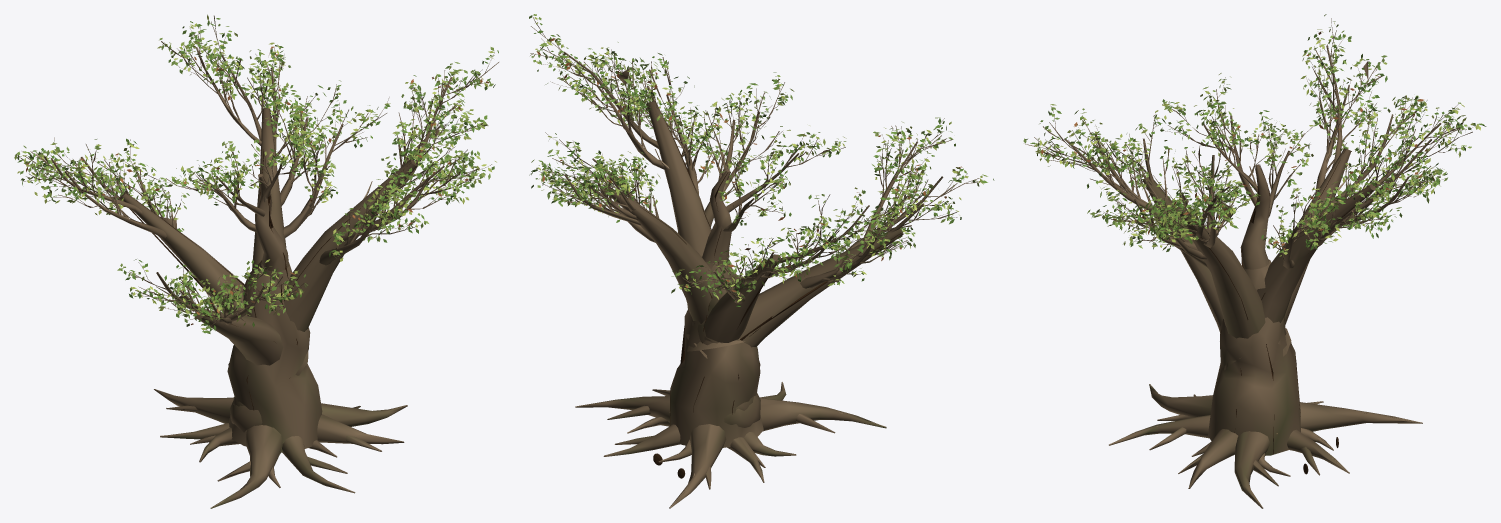
Rendered from ancient_tree_07_lod2.glb.
The picture shows the model from 3 angles, left to right: view 1: azimuth 30°, elevation 25°; view 2: azimuth 150°, elevation 25°; view 3: azimuth 270°, elevation 25°; orthographic projection.
Visible parts, largest first — view 1: AncientTreeWood_LOD2, AncientLeaves_LOD2, FineBranches_LOD2, DirectedBarkGrooves_LOD2; view 2: AncientTreeWood_LOD2, AncientLeaves_LOD2, FineBranches_LOD2, DirectedBarkGrooves_LOD2; view 3: AncientTreeWood_LOD2, AncientLeaves_LOD2, FineBranches_LOD2, DirectedBarkGrooves_LOD2.
Part boxes in pixels (<box>): AncientTreeWood_LOD2: <box>21,21,498,508</box>; AncientLeaves_LOD2: <box>14,14,498,333</box>; FineBranches_LOD2: <box>16,15,494,330</box>; DirectedBarkGrooves_LOD2: <box>119,108,410,410</box>; AncientTreeWood_LOD2: <box>531,26,979,508</box>; AncientLeaves_LOD2: <box>529,14,994,306</box>; FineBranches_LOD2: <box>530,17,984,302</box>; DirectedBarkGrooves_LOD2: <box>611,104,901,425</box>; AncientTreeWood_LOD2: <box>1034,30,1472,508</box>; AncientLeaves_LOD2: <box>1023,14,1486,256</box>; FineBranches_LOD2: <box>1025,18,1475,256</box>; DirectedBarkGrooves_LOD2: <box>1143,148,1372,454</box>.
Bounding box in the file's own units: 23.69 × 19.79 × 22.05.
